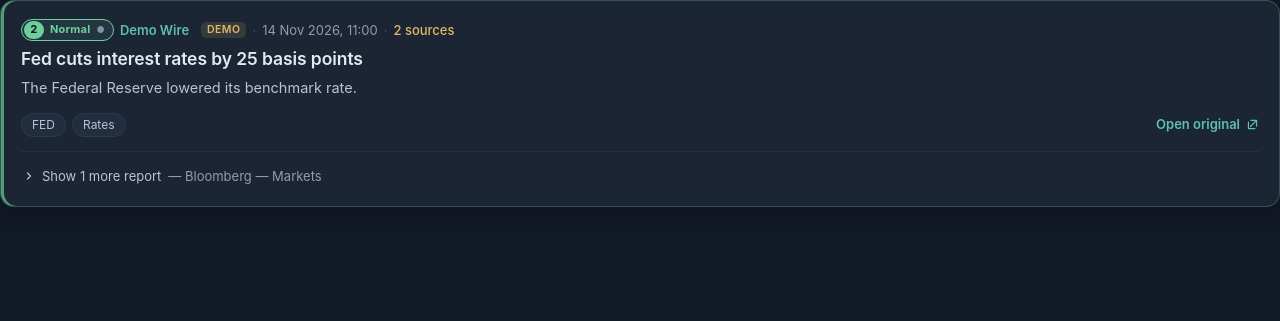
it: paywall labelling › flags paywalled sources on the card and in the other reports
Check: the text "paywall" is not shown
Click the button "Show 1 more report — Bloomberg — Markets" at [172, 176], box [21, 162, 324, 190]
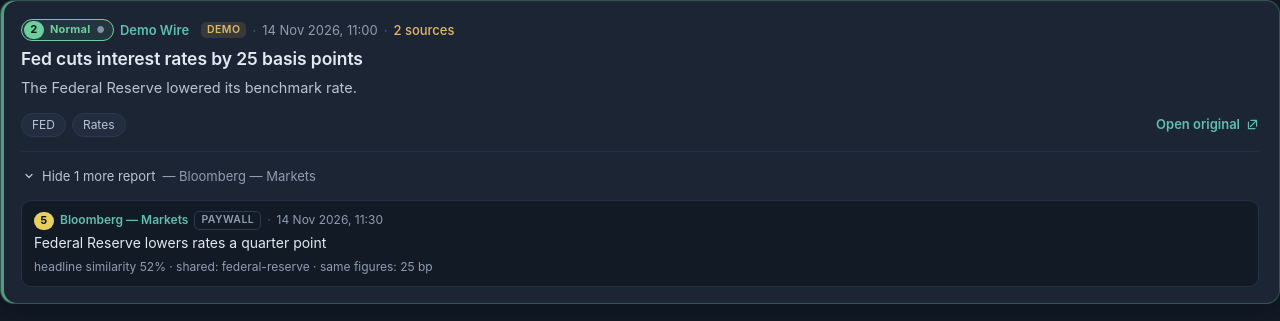
Check: the text "paywall" is shown, box [194, 211, 261, 230]
